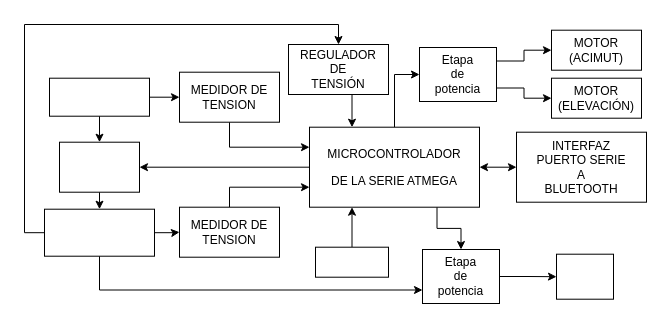
The diagram is 664 pixels wide and 321 high, and some of its shapes have lost their labels. The centre of each missing label's shape, as x and y in pixels:
"4 LDR's" goes at (x=351, y=261).
"BATERÍA DE GEL 12v 7A" goes at (x=99, y=232).
"CARGADOR DE BATERÍA" goes at (x=99, y=166).
"LUZ" goes at (x=585, y=276).
"PANEL SOLAR" goes at (x=99, y=96).
